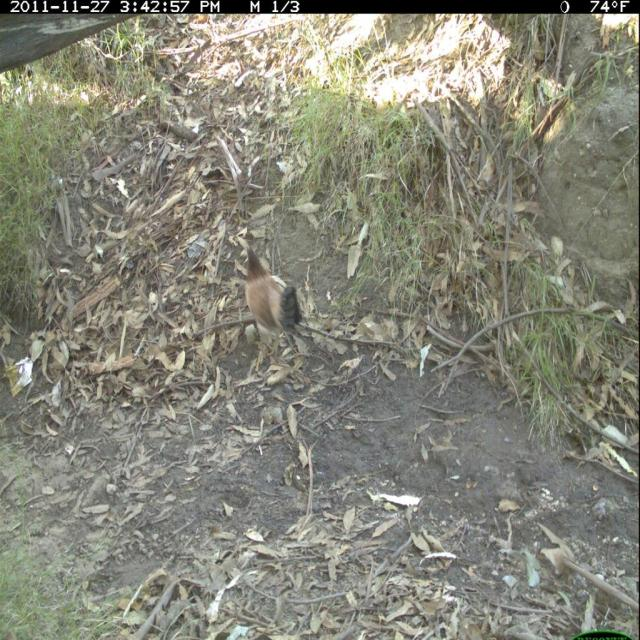bird: (239, 233, 306, 362)
